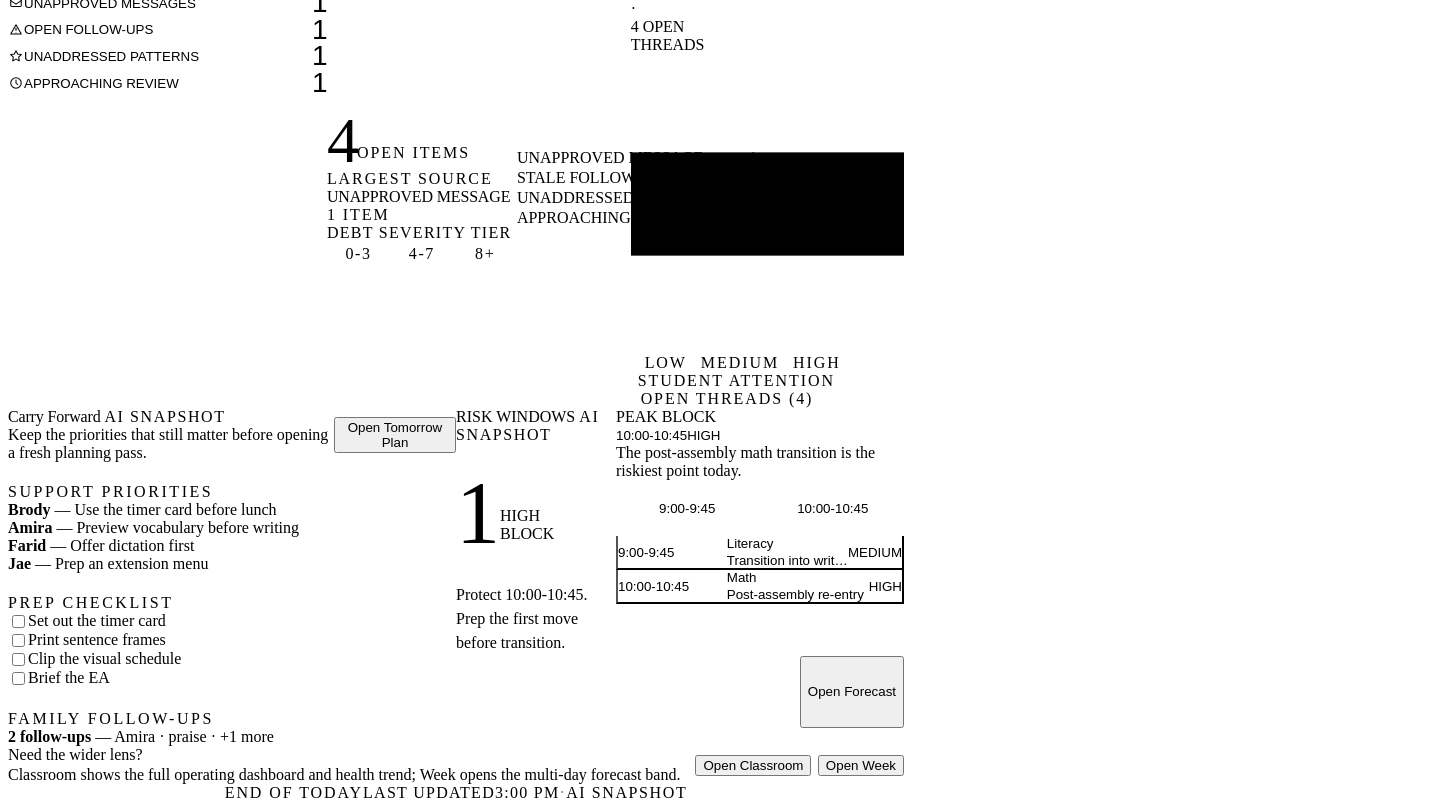
Test: TodayPanel › opens the forecast drawer from a risk window block
(page scrolled)
Check: the text "Risk Windows" is shown, box [456,408,579,425]
Click the button named "10:00-10:45: Math — high complexity".
click(833, 508)  # box [762,480,904,536]
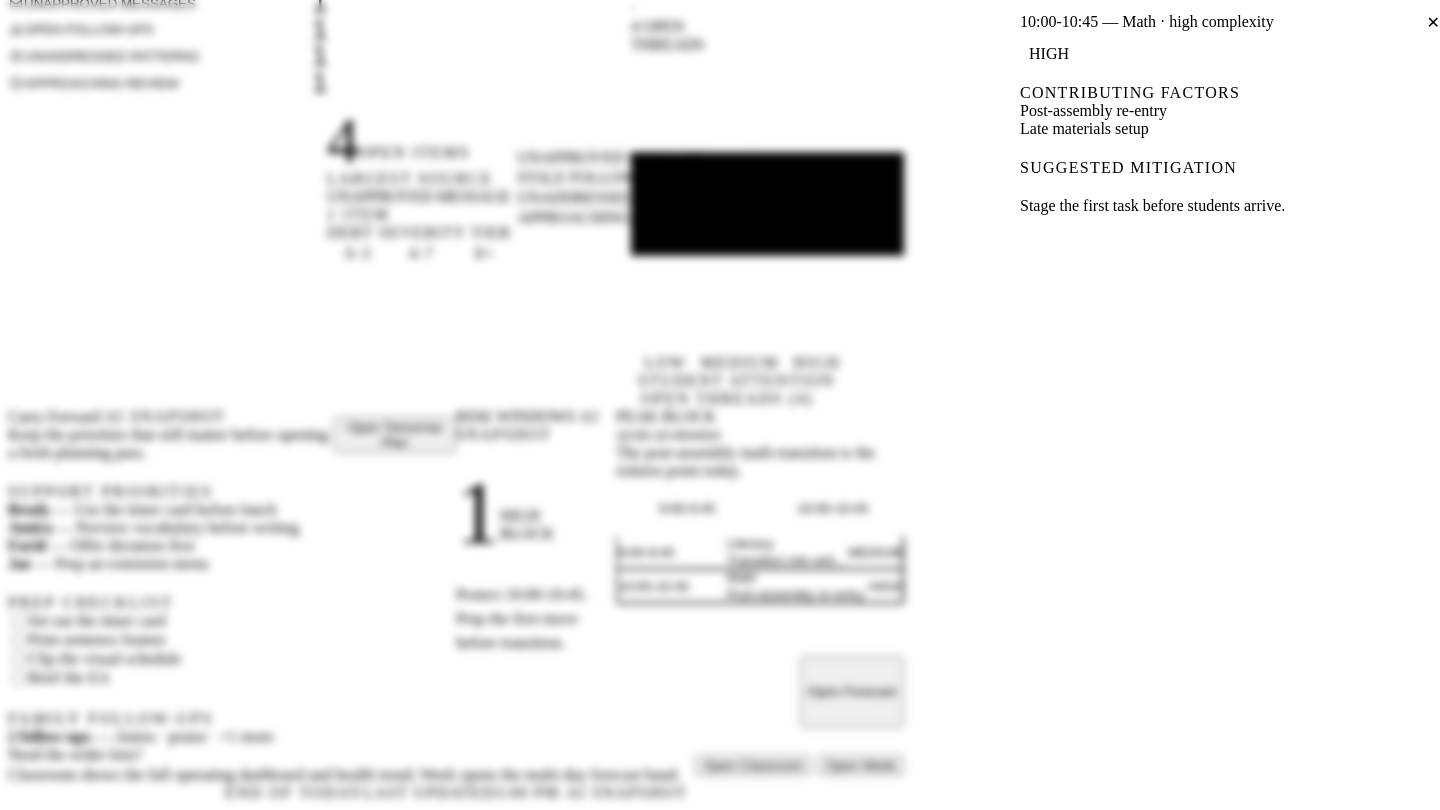
Check: the dialog "10:00-10:45" is shown, box [1020,13,1439,214]
Check: the heading "Suggested mitigation" is shown, box [1020,159,1237,176]
